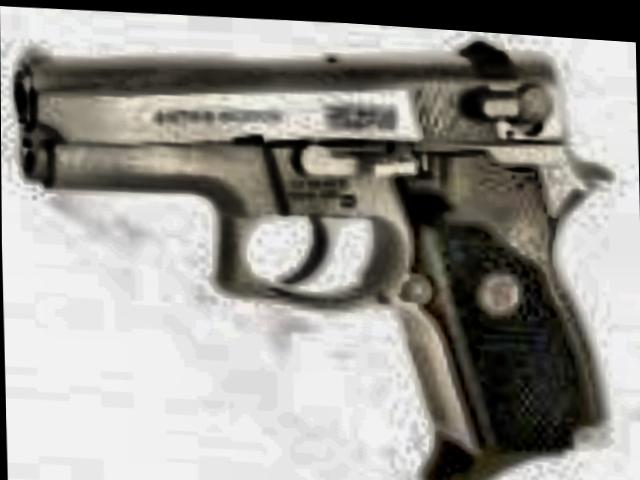pistol: (8, 3, 619, 480)
